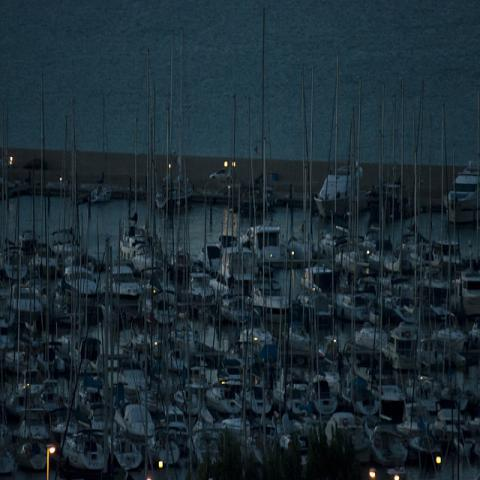car: (209, 166, 236, 184), (254, 172, 293, 183)
